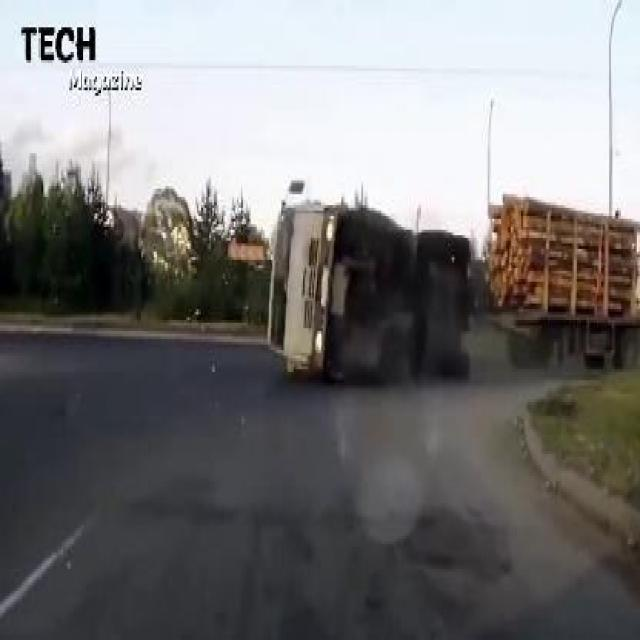accident: (271, 186, 474, 397)
